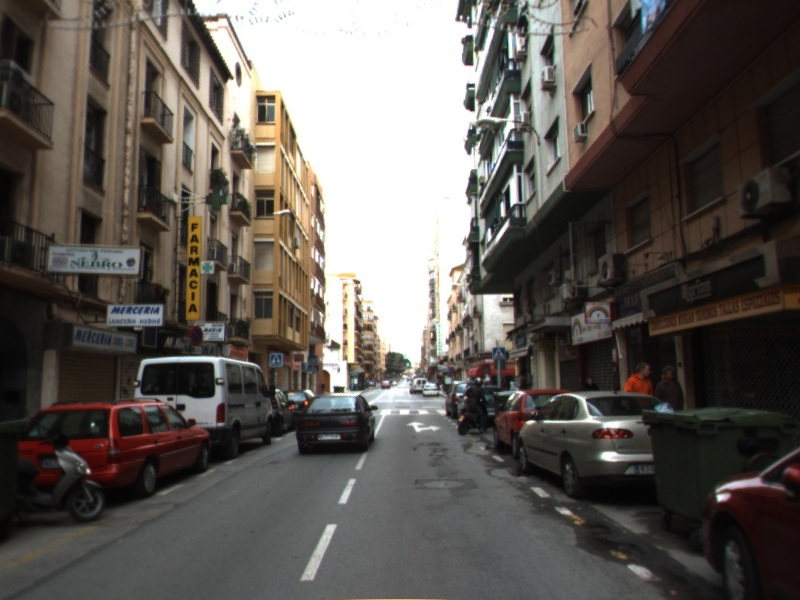STRAIGHT_RIGHT: (404, 419, 444, 434)
